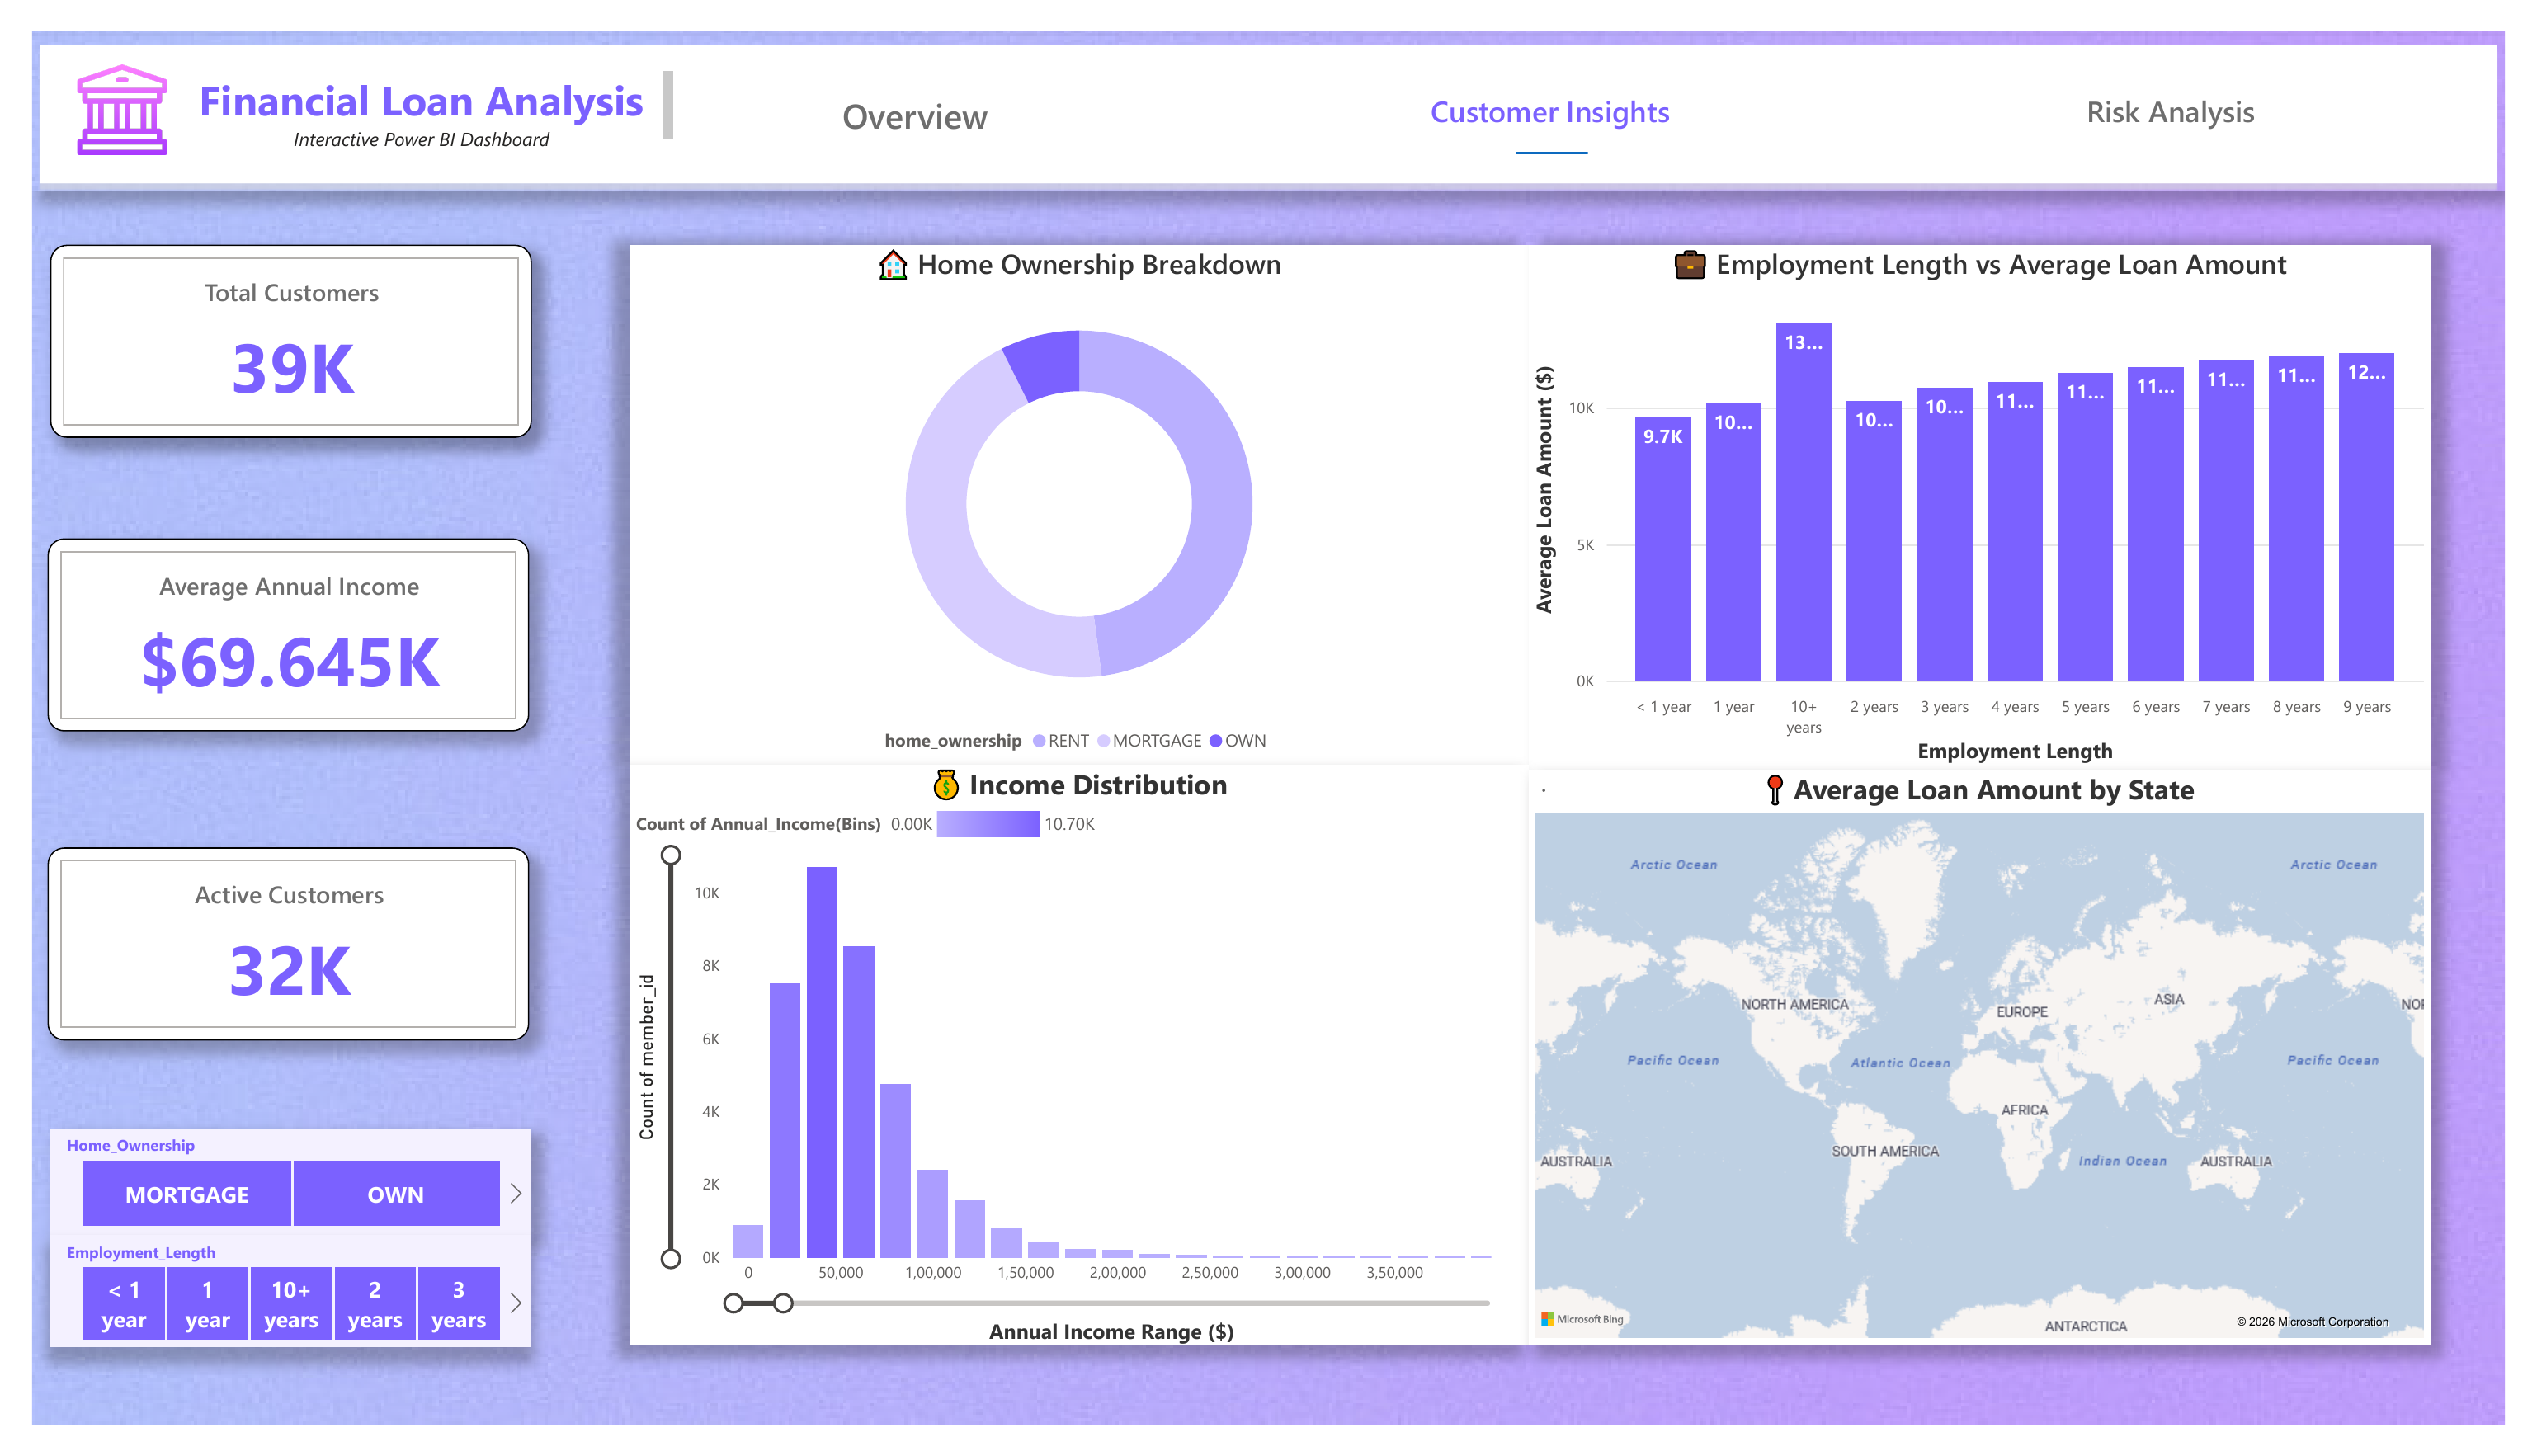

The page's visual inventory and layout, read from the dashboard file:
{"tool":"powerbi","page":{"name":"Customer Insights","canvas":[1920,1082],"ordinal":1},"visuals":[{"type":"shape","box":[0,4.1,1920,120],"z":0},{"type":"slicer","fields":{"Values":["financial_loan.home_ownership"]},"box":[14,852,373.3,82.6],"z":0,"group":"g1"},{"type":"image","box":[30.2,21.4,79.8,79.8],"z":1000},{"type":"slicer","fields":{"Values":["financial_loan.emp_length"]},"box":[14,934.6,373.3,87.2],"z":1000,"group":"g1"},{"type":"textbox","box":[110,25.7,392.6,75.5],"z":2000},{"type":"actionButton","box":[621.3,43,129.4,41],"z":3000},{"type":"actionButton","box":[1078,42,202,40],"z":4000},{"type":"actionButton","box":[1586,42,150,40],"z":5000},{"type":"cardVisual","fields":{"Data":["Dax Measures.Total Customers"]},"box":[14,166,374,150],"z":7000},{"type":"cardVisual","fields":{"Data":["Dax Measures.Average Annual Income"]},"box":[12,394,374,150],"z":8000},{"type":"cardVisual","fields":{"Data":["Dax Measures.Active Customers"]},"box":[12,634,374,150],"z":9000},{"type":"donutChart","title":"🏠 Home Ownership Breakdown","fields":{"Category":["financial_loan.home_ownership"],"Y":["CountNonNull(financial_loan.member_id)"]},"box":[464,166,698,404],"z":10000},{"type":"group","id":"g1","title":"Group 1","box":[14,852,374,168],"z":11000},{"type":"columnChart","title":"💼 Employment Length vs Average Loan Amount","fields":{"Category":["financial_loan.emp_length"],"Y":["Dax Measures.Average Loan Amount"]},"box":[1162,166,700,408],"z":12000},{"type":"clusteredColumnChart","title":"💰 Income Distribution","fields":{"Category":["financial_loan.Annual_Income(Bins)"],"Y":["CountNonNull(financial_loan.member_id)"]},"box":[464,570,698,450],"z":13000},{"type":"filledMap","title":"📍 Average Loan Amount by State","fields":{"Category":["financial_loan.address_state"],"Series":["financial_loan.loan_amount"]},"box":[1162,574,700,446],"z":14000},{"type":"shape","box":[1152,88,56,14],"z":15000}]}

Visuals, with their boxes on the page's 1920x1082 design canvas (x1, y1, x2, y2). These are canvas units, not pixel positions in the 2537x1456 screenshot, which may show the page scaled, cropped or inside an application window:
shape: (0,4,1920,124)
slicer - financial_loan.home_ownership: (14,852,387,935)
image: (30,21,110,101)
slicer - financial_loan.emp_length: (14,935,387,1022)
textbox: (110,26,503,101)
actionButton: (621,43,751,84)
actionButton: (1078,42,1280,82)
actionButton: (1586,42,1736,82)
cardVisual - Dax Measures.Total Customers: (14,166,388,316)
cardVisual - Dax Measures.Average Annual Income: (12,394,386,544)
cardVisual - Dax Measures.Active Customers: (12,634,386,784)
"🏠 Home Ownership Breakdown" donutChart: (464,166,1162,570)
"Group 1" group: (14,852,388,1020)
"💼 Employment Length vs Average Loan Amount" columnChart: (1162,166,1862,574)
"💰 Income Distribution" clusteredColumnChart: (464,570,1162,1020)
"📍 Average Loan Amount by State" filledMap: (1162,574,1862,1020)
shape: (1152,88,1208,102)
